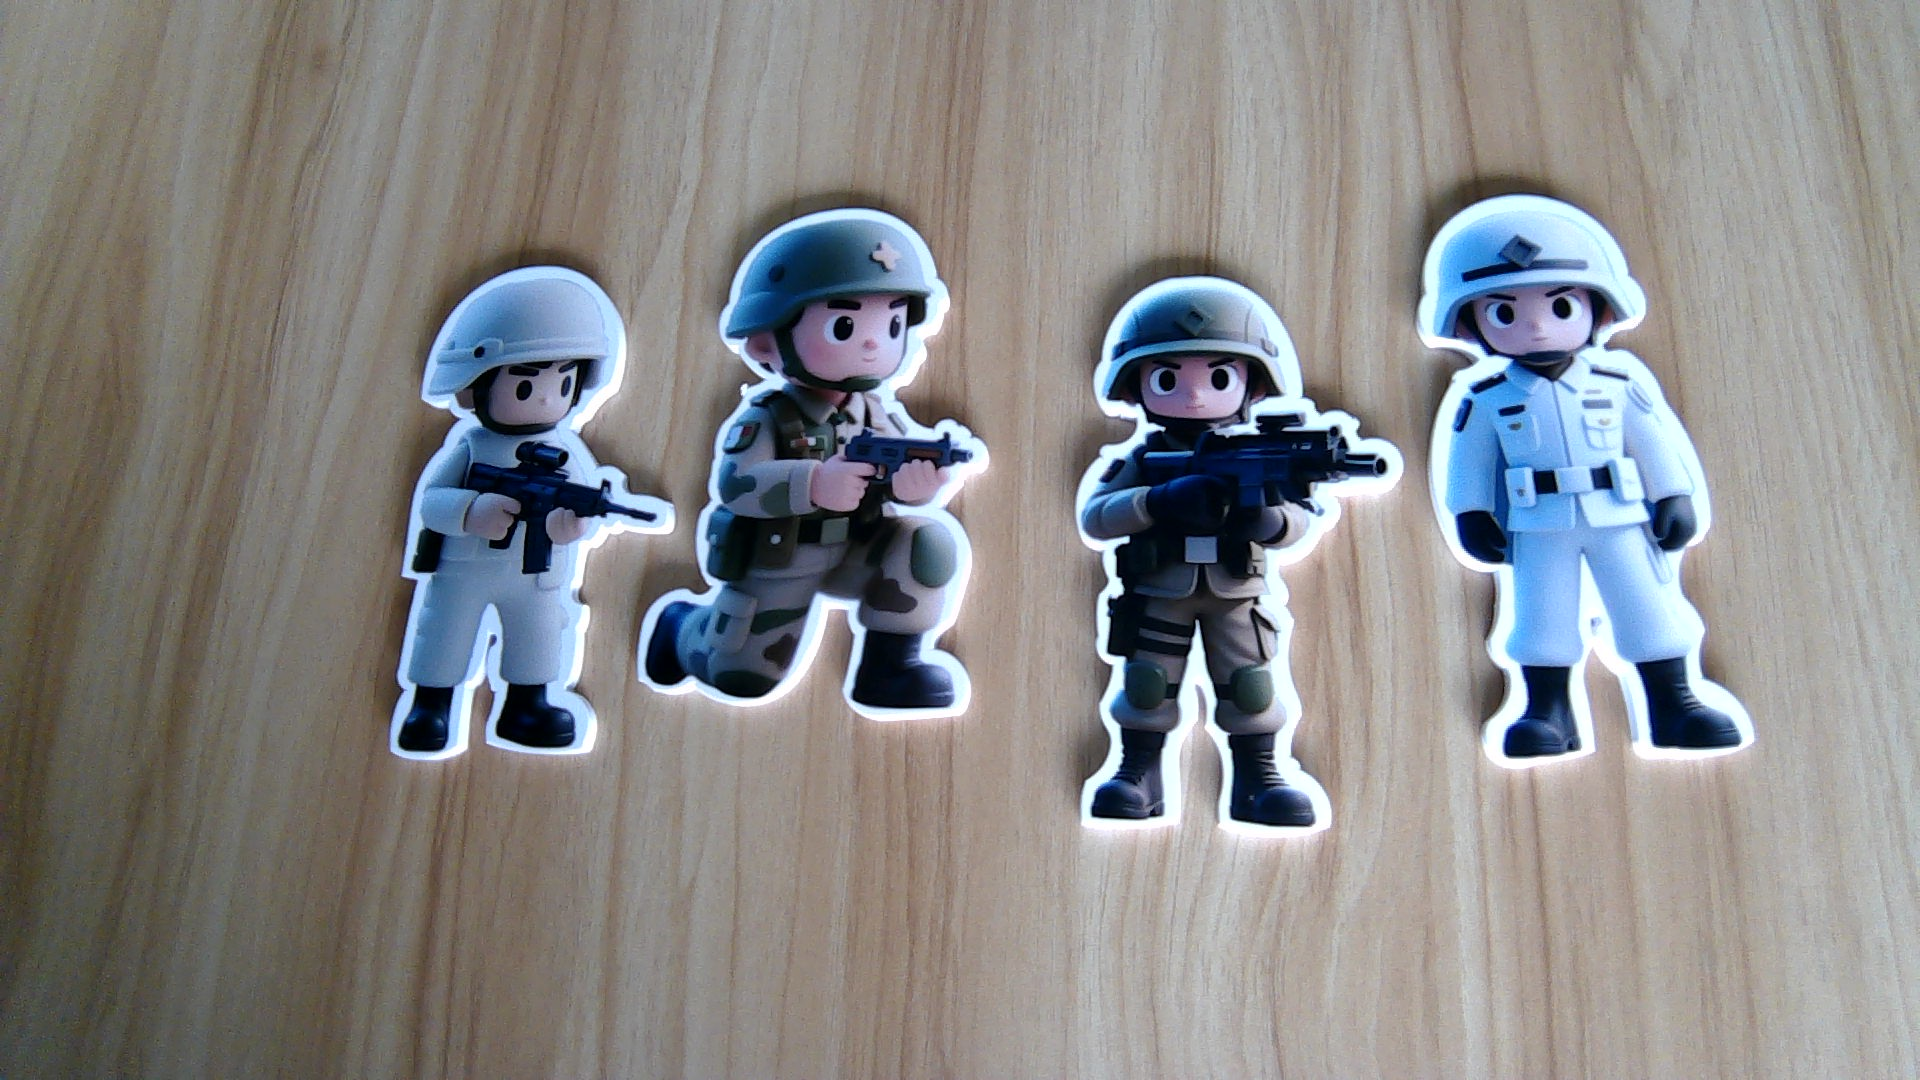人质: (1422, 345, 1799, 777), (382, 435, 636, 760)
友军: (1064, 419, 1391, 849), (636, 405, 996, 729)
